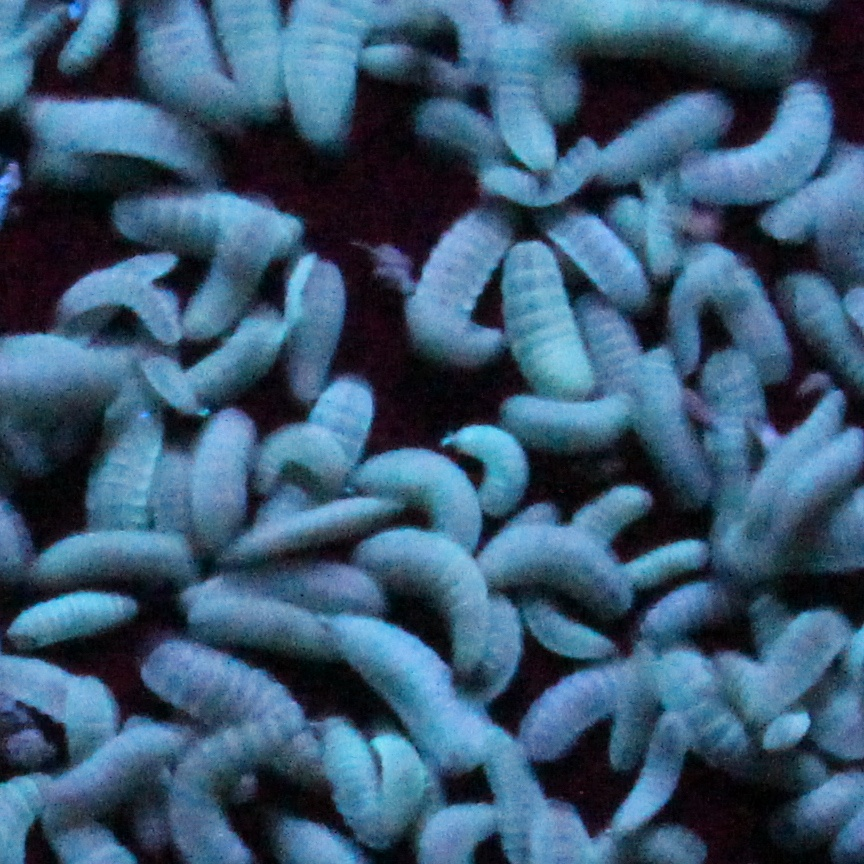larve: (328, 615, 504, 768), (673, 84, 833, 211), (30, 98, 221, 184), (499, 239, 599, 399), (37, 723, 189, 827), (663, 249, 786, 371), (480, 530, 630, 617), (114, 196, 306, 258), (425, 208, 511, 346), (637, 351, 711, 504), (490, 25, 562, 180), (747, 608, 845, 721), (601, 94, 726, 181), (319, 711, 397, 842), (524, 659, 619, 760), (698, 352, 769, 484), (549, 209, 646, 304), (35, 527, 189, 585), (445, 420, 528, 520), (200, 408, 257, 553), (49, 280, 178, 342), (12, 592, 142, 651), (288, 261, 340, 406), (618, 719, 685, 831), (262, 430, 349, 501)
